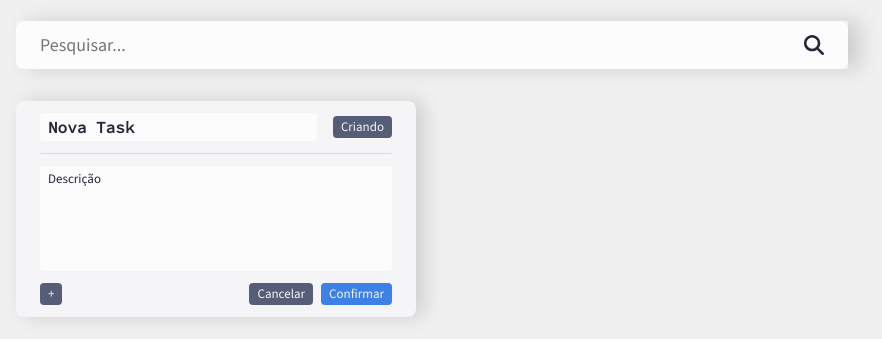
Scenario: Criação de tasks › Cria uma nova task
This screenshot has width=882, height=339.
Type "Nova tarefa" into the field with id "new-task-title" at (179, 127), box top-left (40, 113), bottom-right (317, 141)
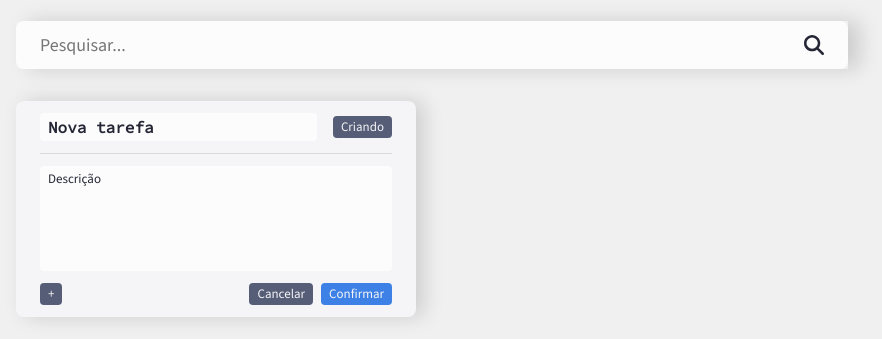
Type "Descrição da tarefa" into the text box with id "new-task-description" at (216, 219), box top-left (40, 166), bottom-right (392, 271)
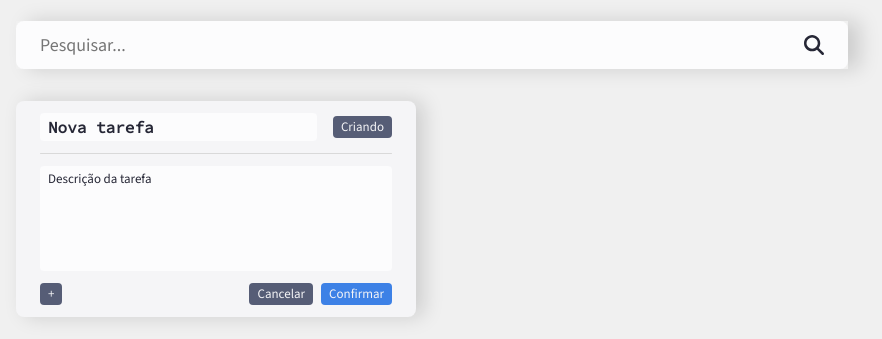
Click the button "Confirmar" at (357, 294), box top-left (321, 283), bottom-right (392, 305)
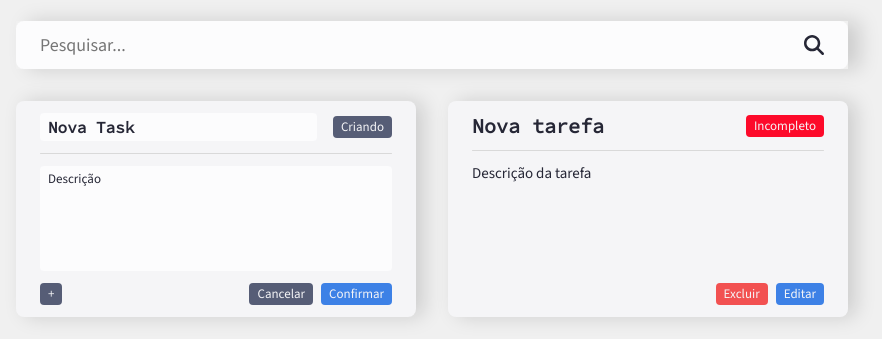
Result: the element with class "task" is shown at top-left (448, 101), bottom-right (848, 317)
